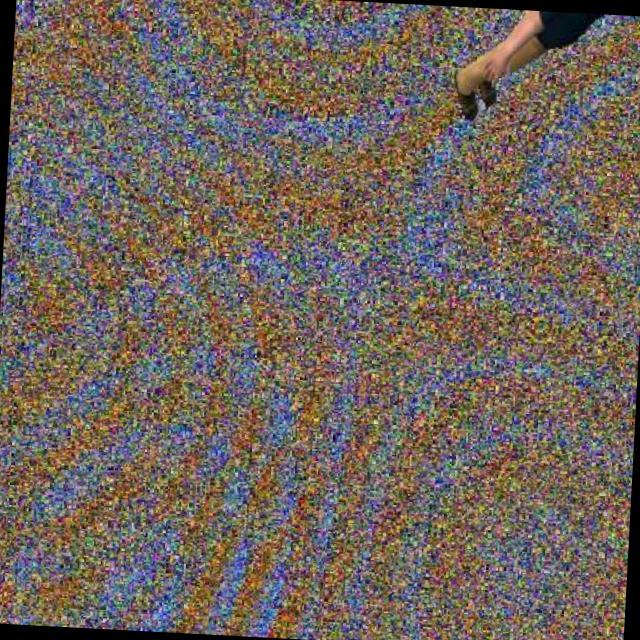Person: (446, 7, 606, 132)
